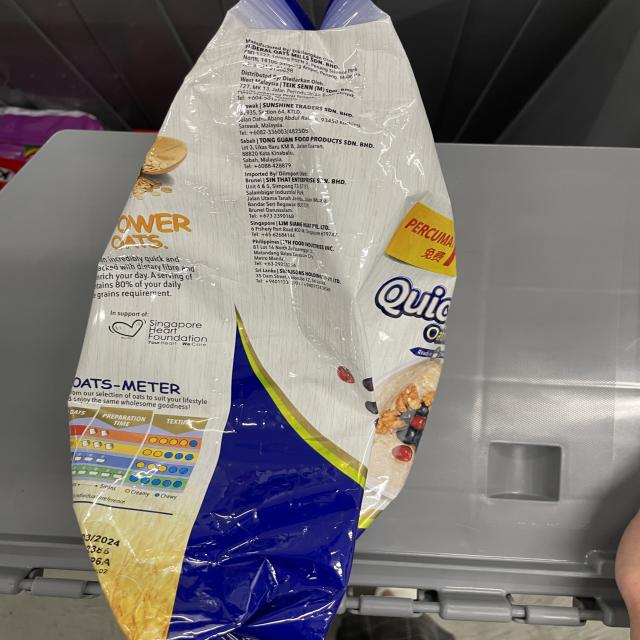object_name: (142, 24, 396, 634)
